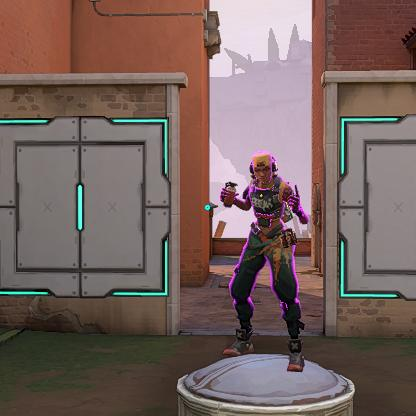enemyBody: (246, 192, 297, 243)
enemyHead: (246, 153, 279, 185)
